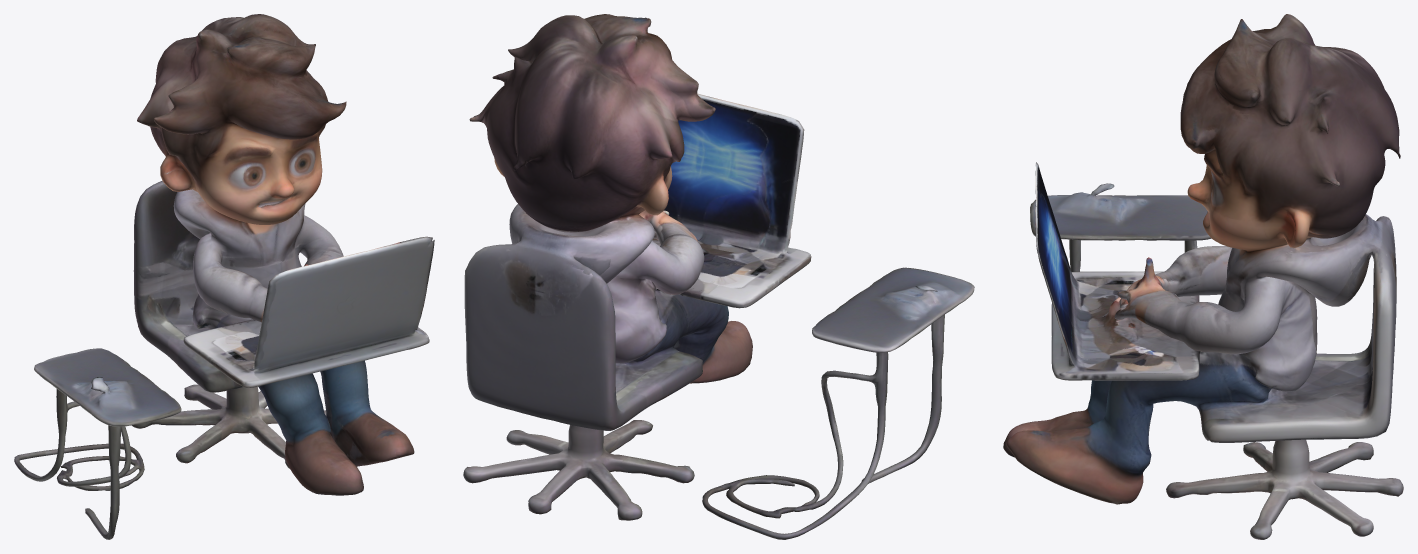
File: Software_engineer_lo_0914050255_refine.glb
3 views of the same model, side by side, from view 1: azimuth 30°, elevation 25°; view 2: azimuth 150°, elevation 25°; view 3: azimuth 270°, elevation 25° (orthographic). The views are drawn at different scales.
Size of the model in its own units: 1.36 by 1.61 by 1.26.
1 material, 1 textured.
